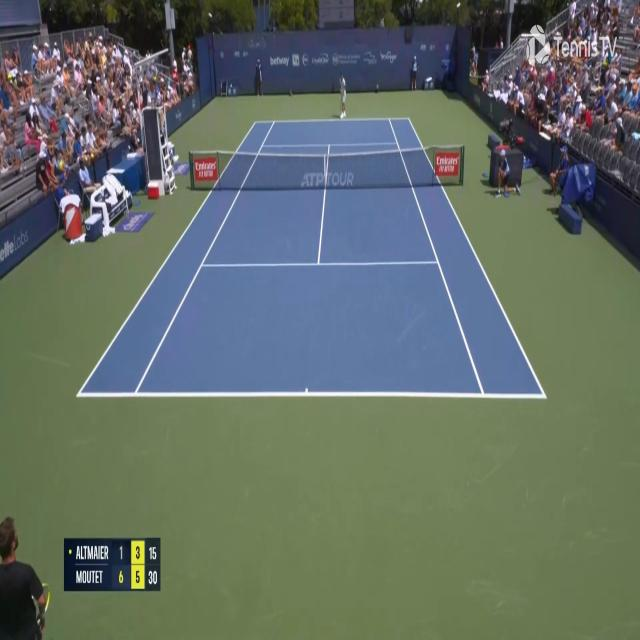tennis-player: (0, 511, 47, 639), (337, 74, 348, 122)
